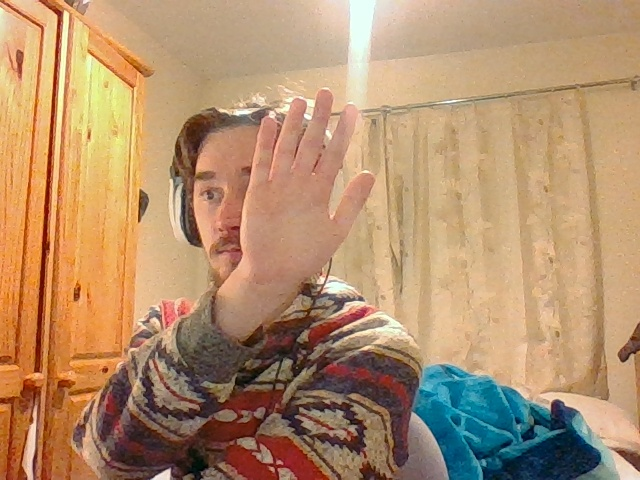hello: (240, 88, 375, 286)
